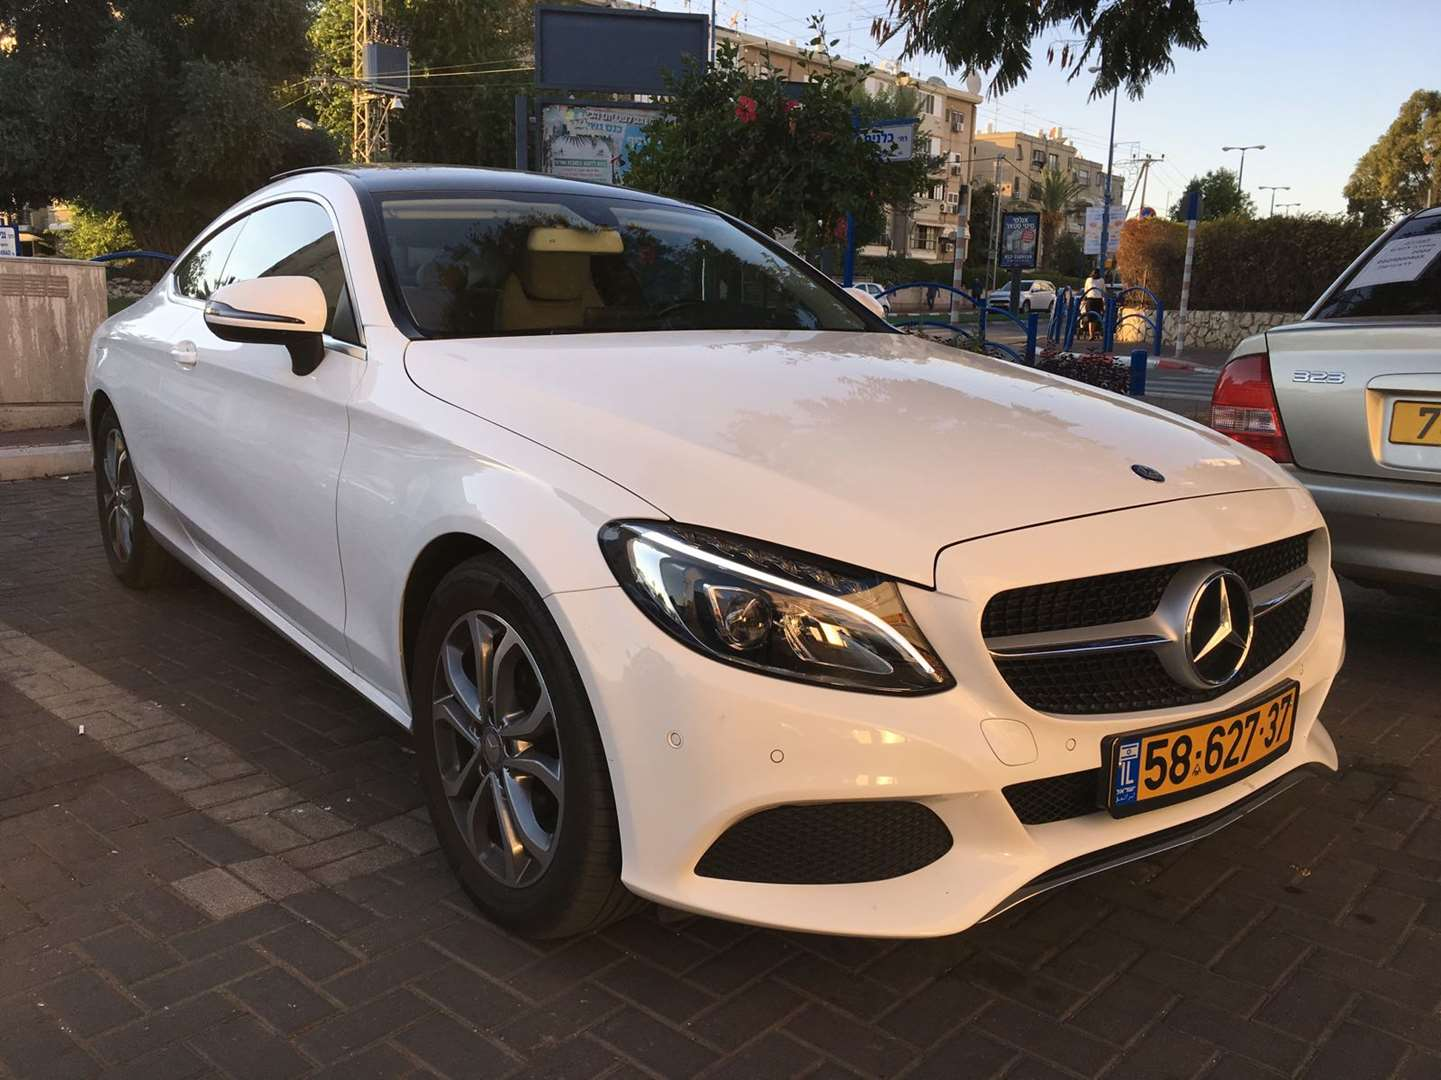licence: (1097, 676, 1309, 819)
